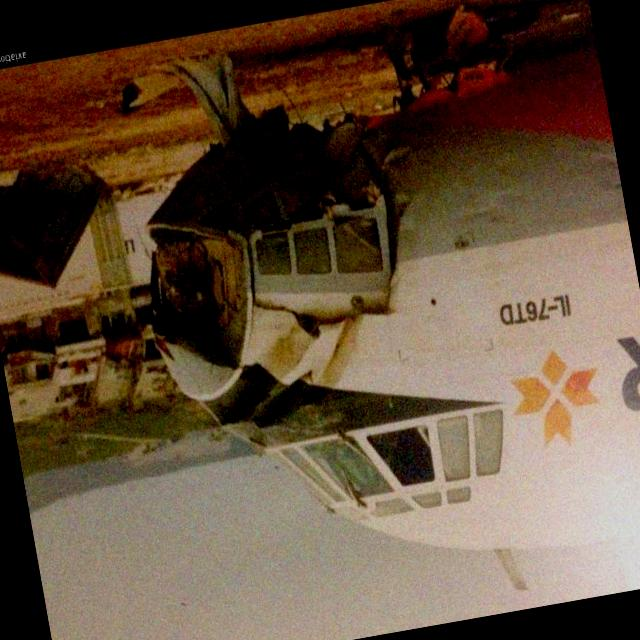dent: (372, 145, 414, 172), (387, 185, 417, 218)
